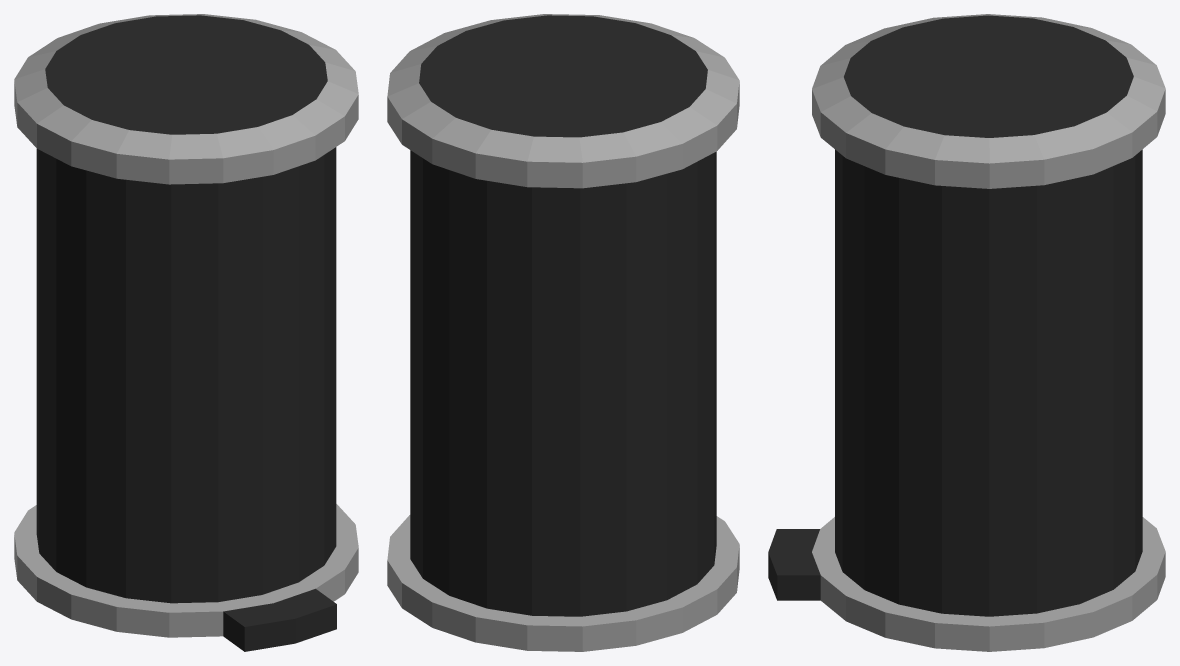
File: Recycle Bin_3.fbx
3 views of the same model, side by side, from view 1: azimuth 30°, elevation 25°; view 2: azimuth 150°, elevation 25°; view 3: azimuth 270°, elevation 25° (orthographic). The views are drawn at different scales.
Parts seen in each view (by area): view 1: Recycle Bin_3; view 2: Recycle Bin_3; view 3: Recycle Bin_3.
Part boxes in pixels (bbox=[...]): Recycle Bin_3: bbox=[14, 14, 358, 651]; Recycle Bin_3: bbox=[387, 14, 739, 651]; Recycle Bin_3: bbox=[768, 14, 1165, 651].
Size of the model in its own units: 0.3396 by 0.53 by 0.3815.
